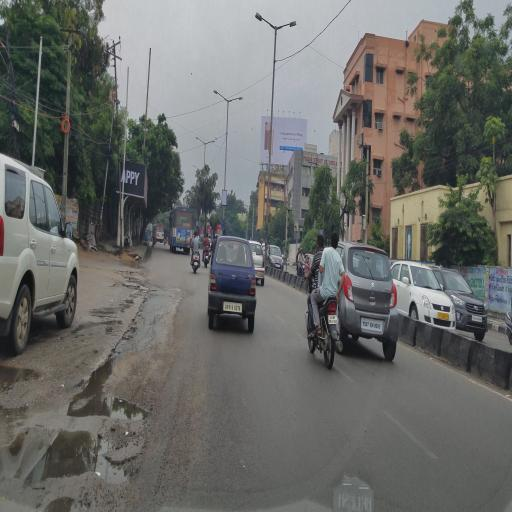street_light_0: (275, 10, 305, 34), (208, 84, 230, 112), (247, 13, 273, 36), (228, 82, 244, 114), (192, 127, 208, 151), (203, 127, 220, 149)
